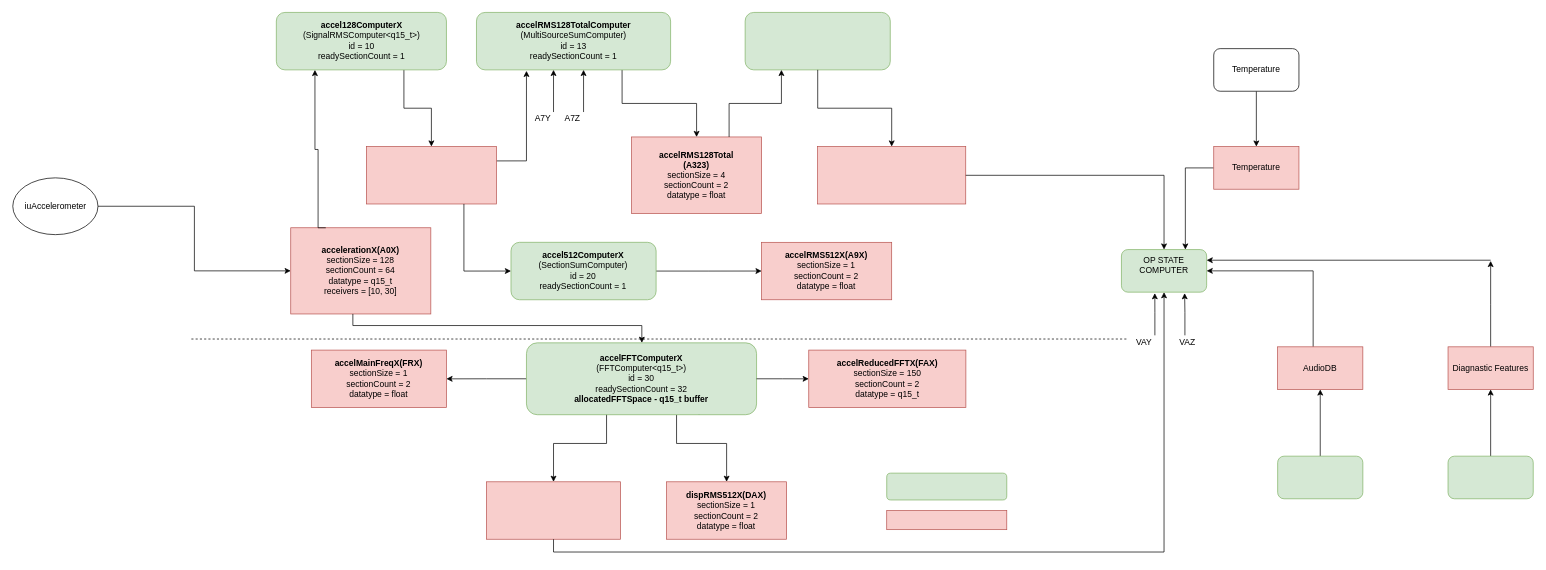
Some shapes in this 1546 by 570 pixel diagram are drawn without their labels. The centre of each missing label's shape, as x and y in pixels:
accel512TotalComputer (SectionSumComputer) id = 23 readySectionCount = 1: the point at 817,41
accelRMS128X(A7X) sectionSize = 4 sectionCount = 2 datatype = float: the point at 431,175
accelRMS512Total(A93) sectionSize = 1 sectionCount = 2 datatype = float: the point at 891,175
AudioDBCOmputer: the point at 1320,477
Diagnostic Fingerprint Computer: the point at 1490,477
Feature: the point at 946,520
Feature Computer: the point at 946,486
velRMS512X(VAX) sectionSize = 1 sectionCount = 2 datatype = float: the point at 553,510
